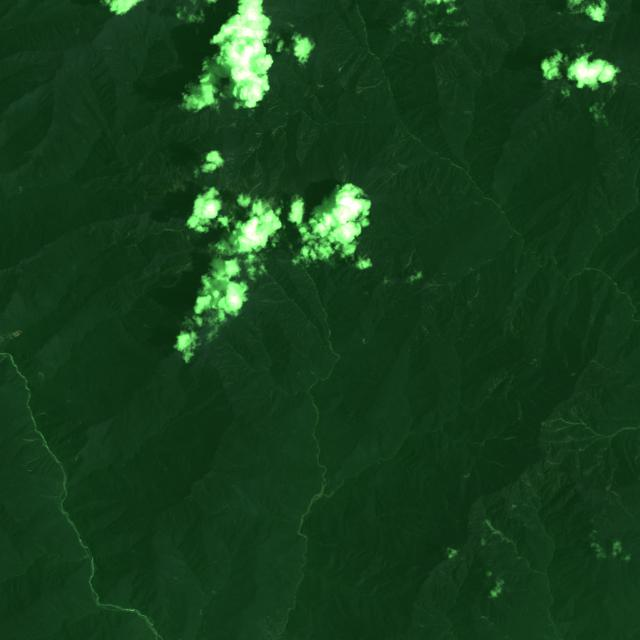landslides: (572, 407, 596, 435), (262, 230, 293, 251), (235, 271, 265, 288), (410, 41, 432, 62), (357, 79, 384, 95), (422, 32, 441, 54), (339, 50, 358, 71), (583, 461, 604, 478), (469, 273, 480, 304), (542, 418, 583, 426), (448, 51, 473, 64), (578, 437, 601, 451), (517, 63, 542, 75), (590, 360, 614, 371), (252, 213, 274, 224), (521, 303, 531, 326), (326, 23, 343, 36), (511, 312, 519, 338), (516, 312, 526, 332), (318, 48, 338, 58), (405, 250, 415, 269), (272, 123, 286, 136), (599, 134, 619, 143), (624, 78, 640, 89), (522, 479, 536, 491), (488, 128, 501, 140), (635, 434, 640, 464), (609, 22, 616, 43), (251, 180, 263, 192), (328, 275, 337, 291), (541, 426, 569, 431), (554, 0, 561, 20), (351, 112, 368, 120), (457, 46, 468, 58), (415, 42, 428, 52), (451, 22, 469, 29), (239, 175, 248, 189), (540, 31, 551, 42), (331, 42, 355, 47), (593, 224, 603, 235), (466, 257, 484, 263), (397, 162, 410, 170), (510, 29, 523, 37), (426, 45, 436, 55)
